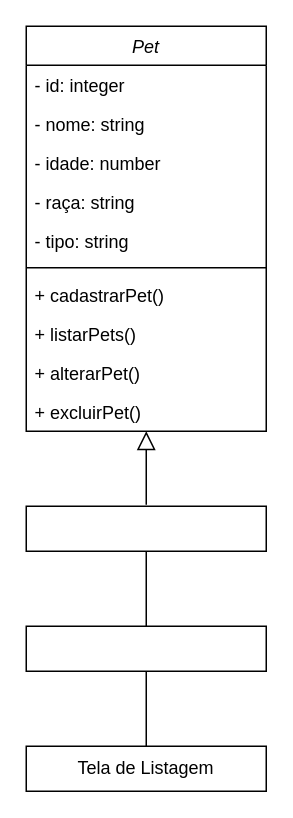
This 293x818 diagram has some shape labels left out. Here are the shapes that lost their labels. From the top down, the centre of each, then its label:
[145,528]: Banco de dados
[145,648]: Tela de Cadastro
